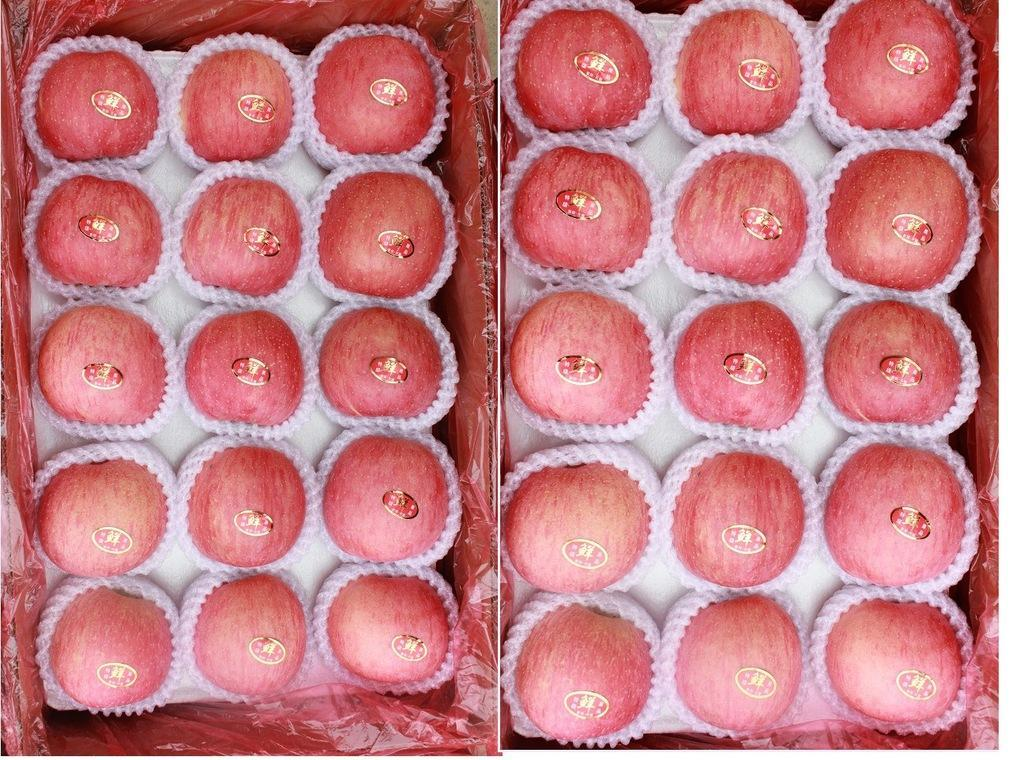apple: (828, 149, 966, 293), (674, 592, 809, 733), (825, 444, 963, 579), (674, 451, 804, 586), (823, 1, 959, 127), (828, 597, 962, 719), (323, 438, 449, 560), (515, 462, 641, 584), (526, 146, 652, 268), (514, 608, 640, 730), (317, 175, 443, 297), (522, 15, 648, 137), (676, 303, 802, 425), (313, 303, 439, 425), (175, 43, 301, 165), (517, 295, 643, 417), (312, 34, 438, 156), (827, 302, 953, 424), (680, 15, 806, 137), (177, 173, 303, 295), (679, 146, 805, 268), (49, 588, 171, 706), (330, 580, 444, 693), (46, 463, 160, 576), (186, 452, 300, 565), (195, 582, 309, 695), (42, 317, 164, 420), (36, 178, 158, 281), (36, 55, 158, 158)
